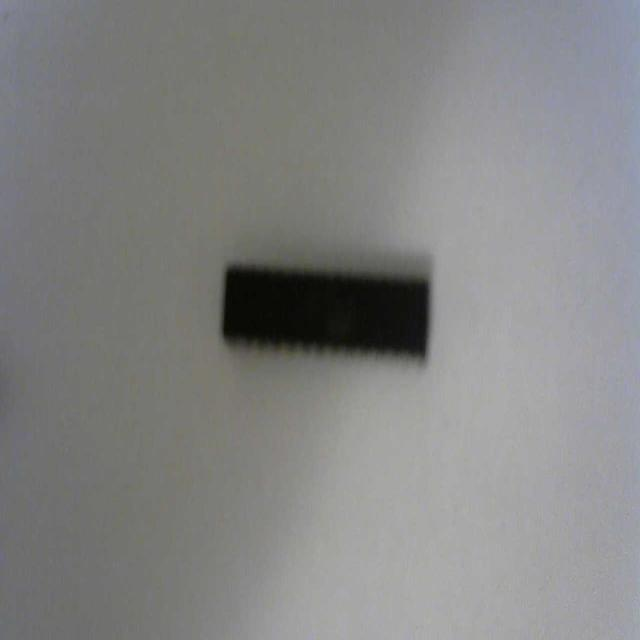atmega: (219, 257, 432, 368)
